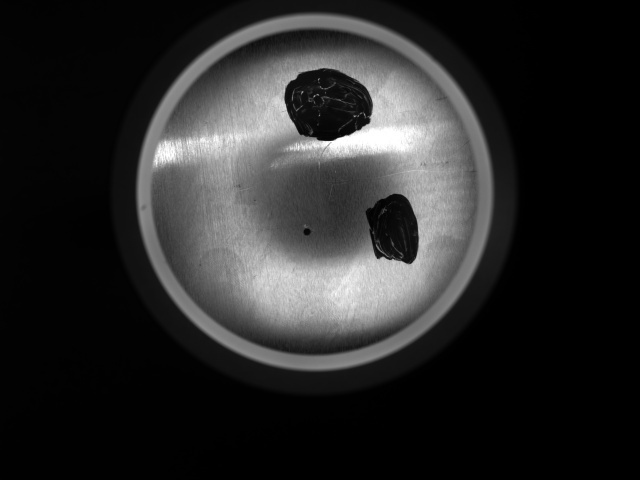zang_wu: (280, 66, 376, 142), (365, 192, 421, 267)
zhen_kong: (302, 225, 315, 237)
